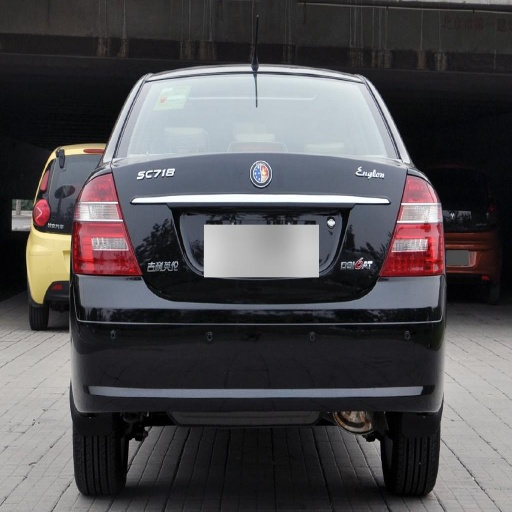back_bumper: (31, 274, 443, 420)
